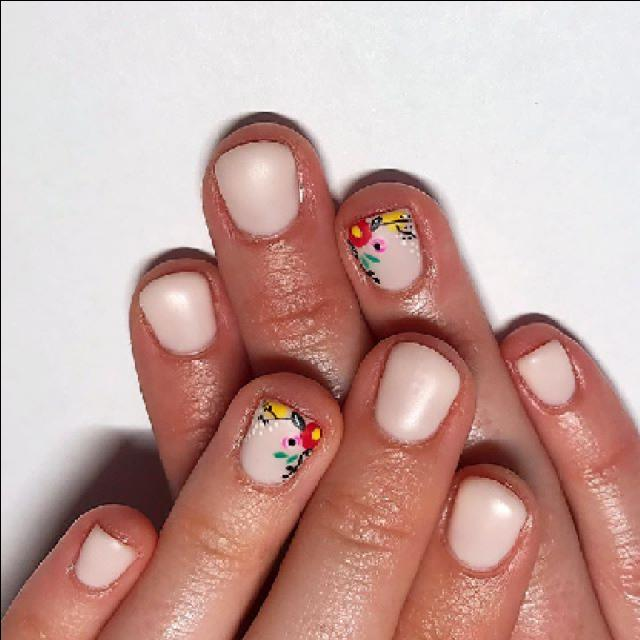Nail: (374, 342, 459, 442), (214, 141, 298, 236), (446, 476, 526, 570), (139, 271, 216, 354), (74, 526, 136, 588), (516, 341, 575, 406)
